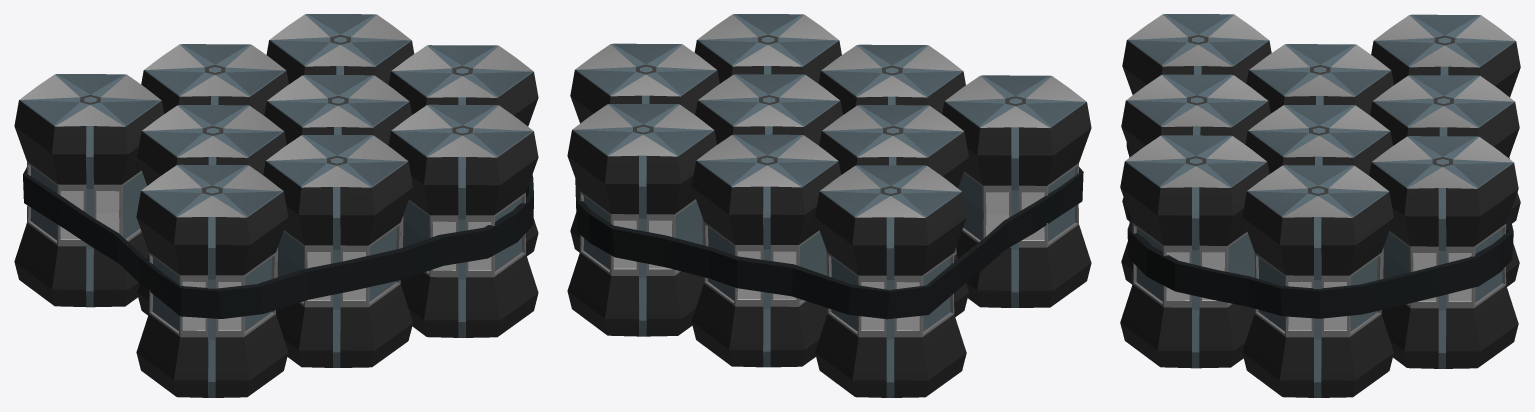
Rendered from Power Cells Bundle.fbx.
3 views of the same model, side by side, from view 1: azimuth 30°, elevation 25°; view 2: azimuth 150°, elevation 25°; view 3: azimuth 270°, elevation 25° (orthographic).
Parts seen in each view (by area): view 1: Power Cells Bundle; view 2: Power Cells Bundle; view 3: Power Cells Bundle.
Boxes of the visible parts, x1=… form: Power Cells Bundle: x1=14, y1=14, x2=538, y2=397; Power Cells Bundle: x1=567, y1=14, x2=1091, y2=397; Power Cells Bundle: x1=1120, y1=14, x2=1520, y2=397.
Bounding box in the file's own units: 211 × 424 × 523.
Materials: 1 (1 with a texture image).
